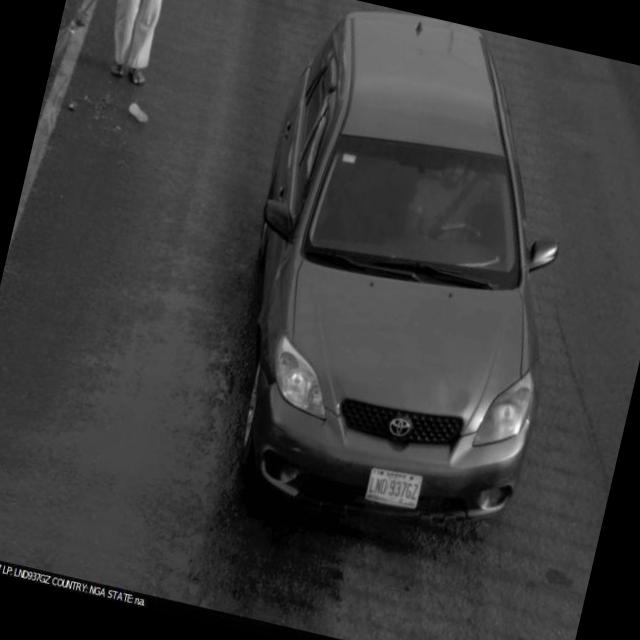person_with_seatbelt: (390, 149, 509, 270)
